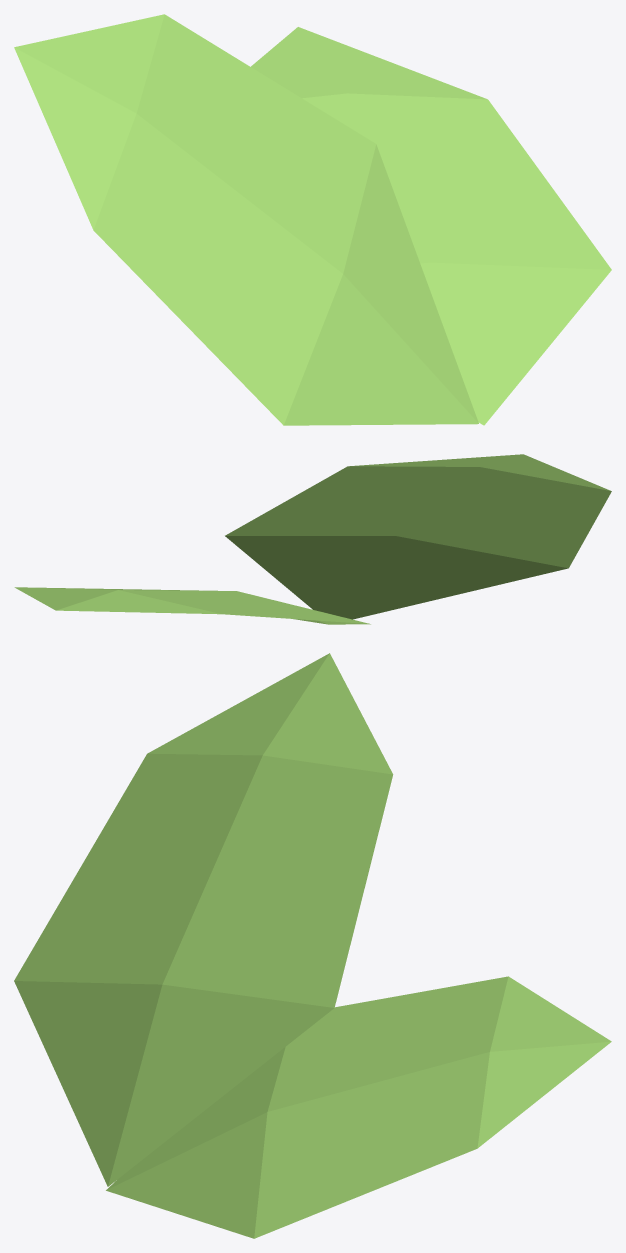
The model's file is Plant_h_OneS_01.fbx.
3 views of the same model, one above another, from view 1: azimuth 30°, elevation 25°; view 2: azimuth 150°, elevation 25°; view 3: azimuth 270°, elevation 25° (orthographic). The views are drawn at different scales.
Parts seen in each view (by area): view 1: Plant_h_OneS_01; view 2: Plant_h_OneS_01; view 3: Plant_h_OneS_01.
Boxes of the visible parts, x1=… form: Plant_h_OneS_01: x1=14, y1=14, x2=611, y2=425; Plant_h_OneS_01: x1=14, y1=454, x2=611, y2=624; Plant_h_OneS_01: x1=14, y1=653, x2=611, y2=1238.
Size of the model in its own units: 26.83 by 17 by 24.94.
